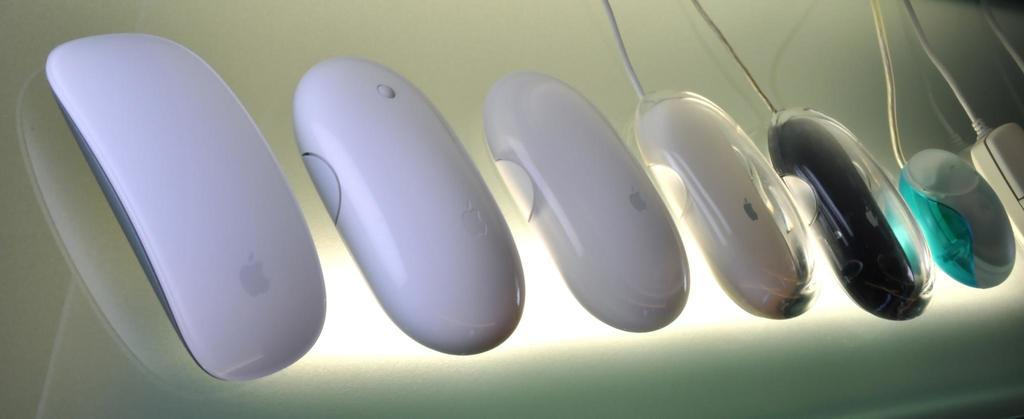Computer-mouse: (42, 37, 330, 379), (294, 51, 525, 356), (483, 67, 692, 331), (630, 88, 822, 320), (770, 104, 938, 322), (897, 146, 1018, 291), (967, 119, 1023, 238)
